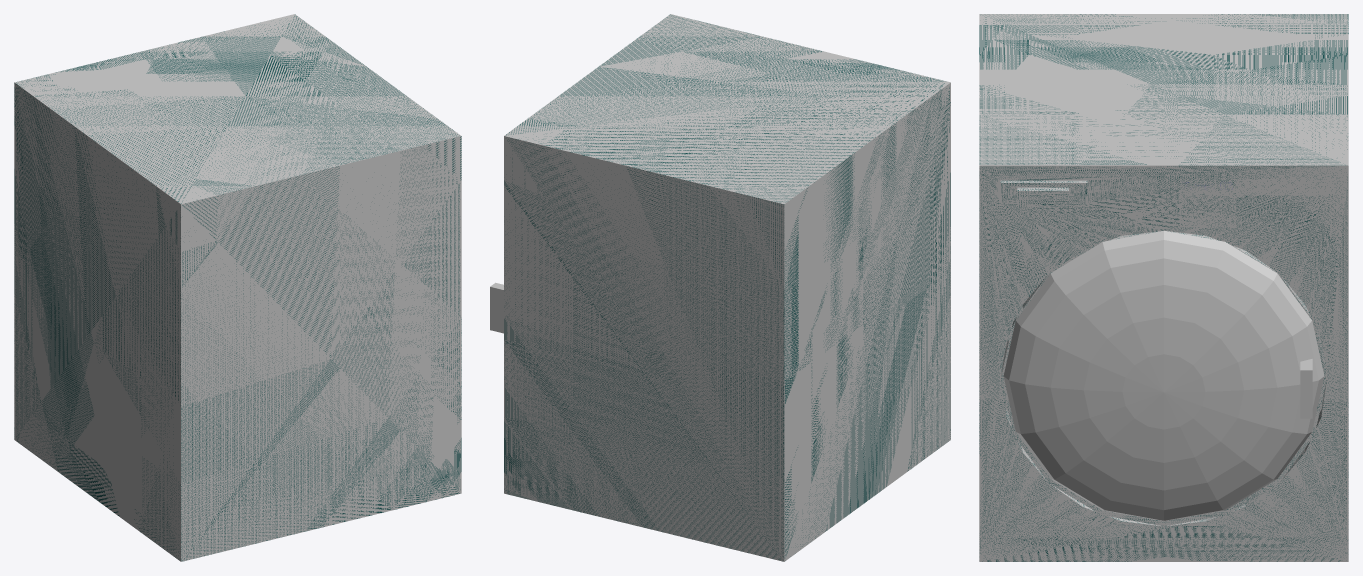
3 renders of one model, left to right at view 1: azimuth 30°, elevation 25°; view 2: azimuth 150°, elevation 25°; view 3: azimuth 270°, elevation 25°, orthographic. The views are drawn at different scales.
Parts seen in each view (by area): view 1: mesh153_mesh153-geometry; view 2: mesh153_mesh153-geometry, mesh164_mesh164-geometry; view 3: mesh153_mesh153-geometry, mesh160_mesh160-geometry, mesh149_mesh149-geometry, mesh164_mesh164-geometry.
Boxes of the visible parts, left/top/right/bottom form: mesh153_mesh153-geometry: left=14, top=14, right=461, bottom=561; mesh153_mesh153-geometry: left=504, top=14, right=950, bottom=561; mesh164_mesh164-geometry: left=490, top=282, right=503, bottom=333; mesh153_mesh153-geometry: left=979, top=14, right=1348, bottom=561; mesh160_mesh160-geometry: left=1003, top=231, right=1324, bottom=521; mesh149_mesh149-geometry: left=1179, top=178, right=1334, bottom=227; mesh164_mesh164-geometry: left=1300, top=359, right=1312, bottom=418.
Size of the model in its own units: 0.5703 by 0.6275 by 0.53.
